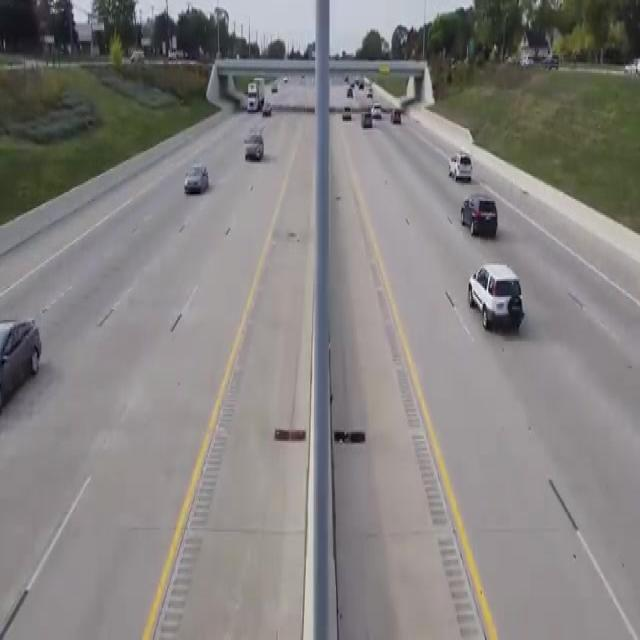car: (455, 254, 530, 347), (0, 308, 46, 400), (454, 192, 515, 238), (178, 135, 208, 203), (437, 138, 480, 180), (242, 135, 269, 163), (385, 97, 407, 131), (360, 92, 375, 139), (260, 100, 277, 120), (367, 96, 383, 117), (338, 104, 356, 120)
truck: (243, 76, 266, 112)
